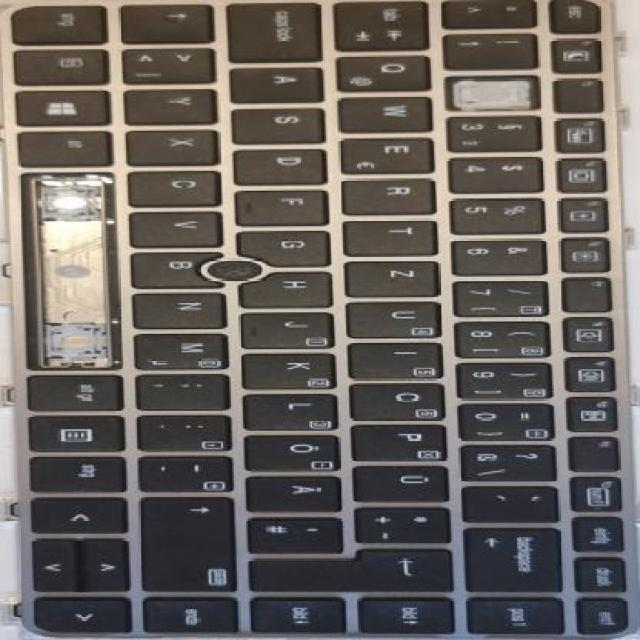Keyboard problems: (22, 175, 118, 368), (451, 78, 535, 109)
